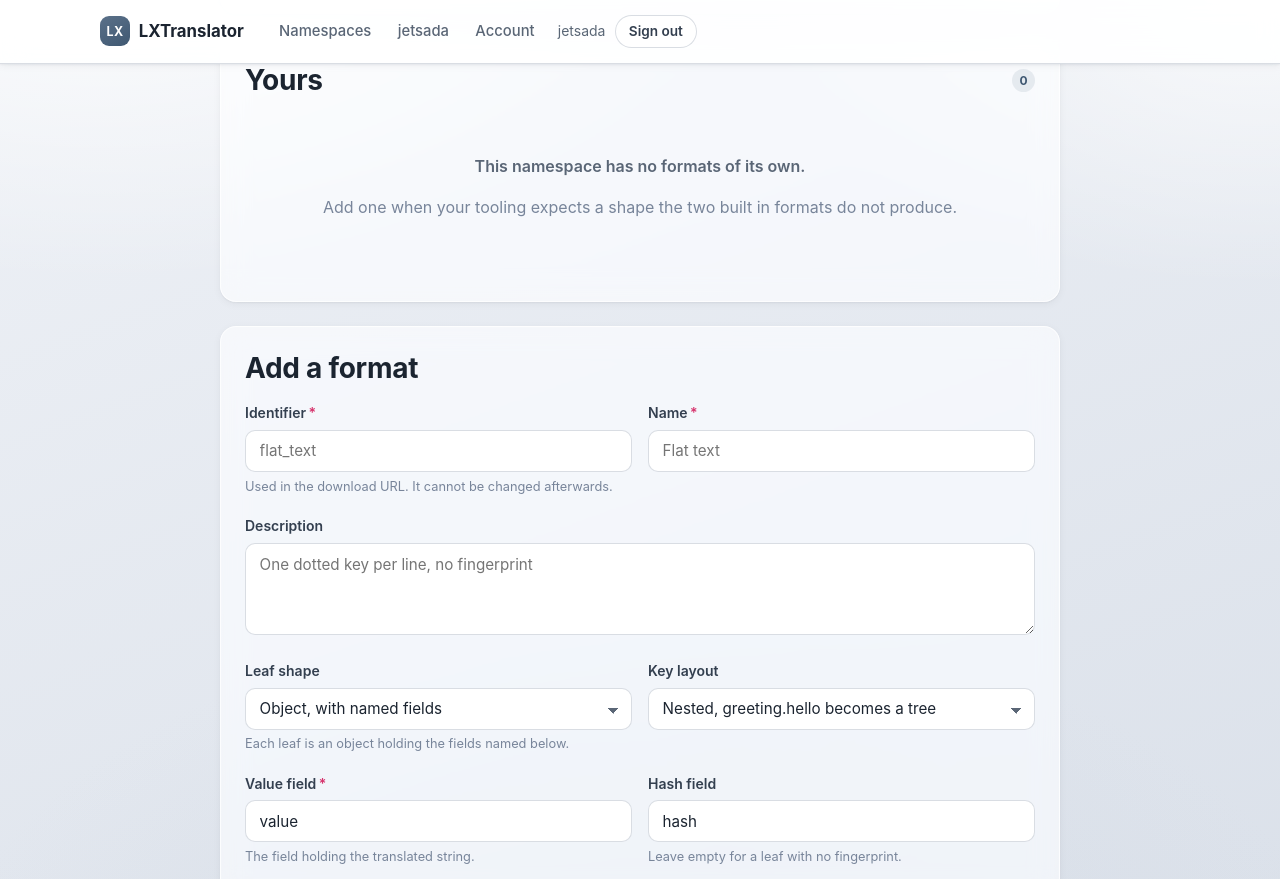
Test: export formats › managing them › refuses a field name that could reach the object prototype
This screenshot has width=1280, height=879.
(page scrolled)
In the field labelled "Identifier*": (438, 451) [245,430,632,472], type "polluted"
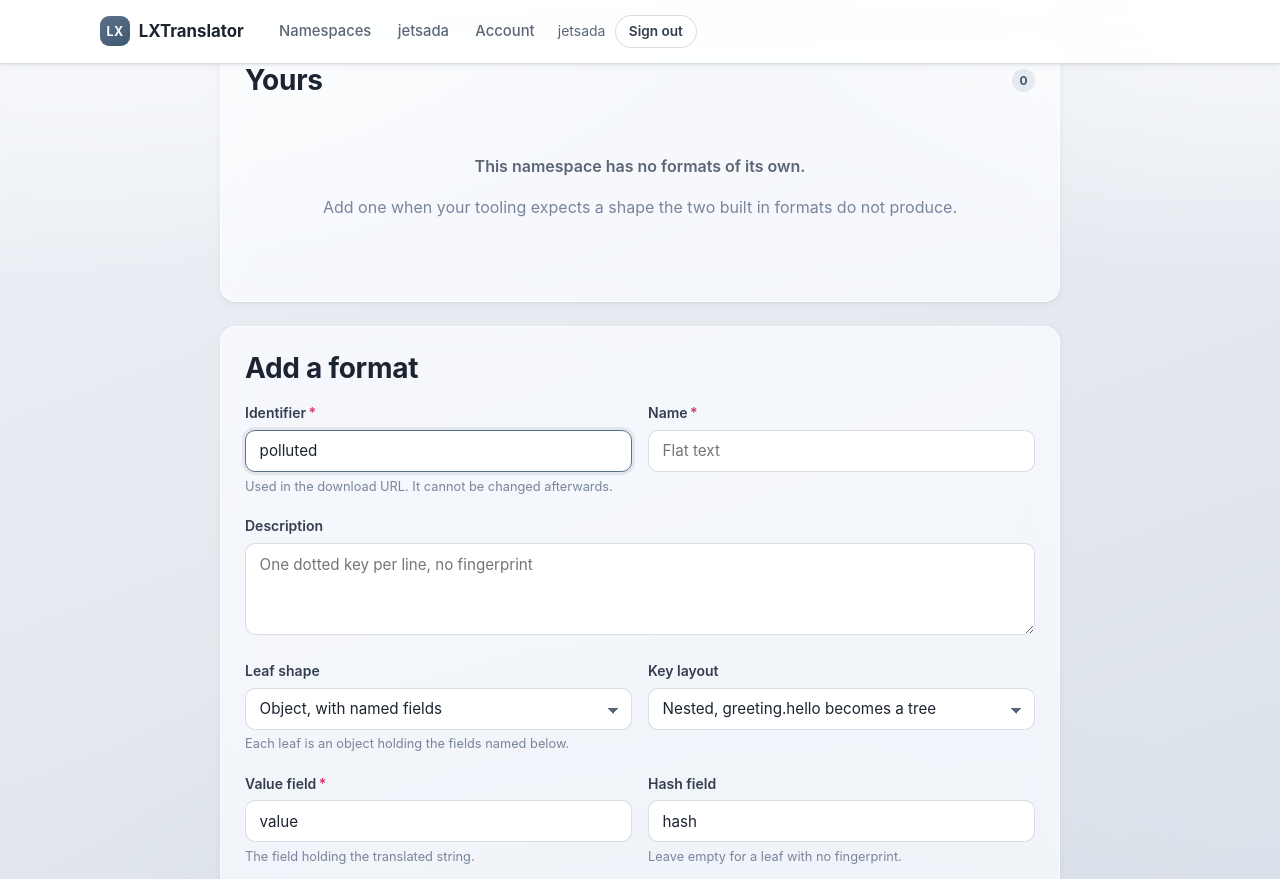
In the field labelled "Name*": (842, 451) [648,430,1035,472], type "Polluted"
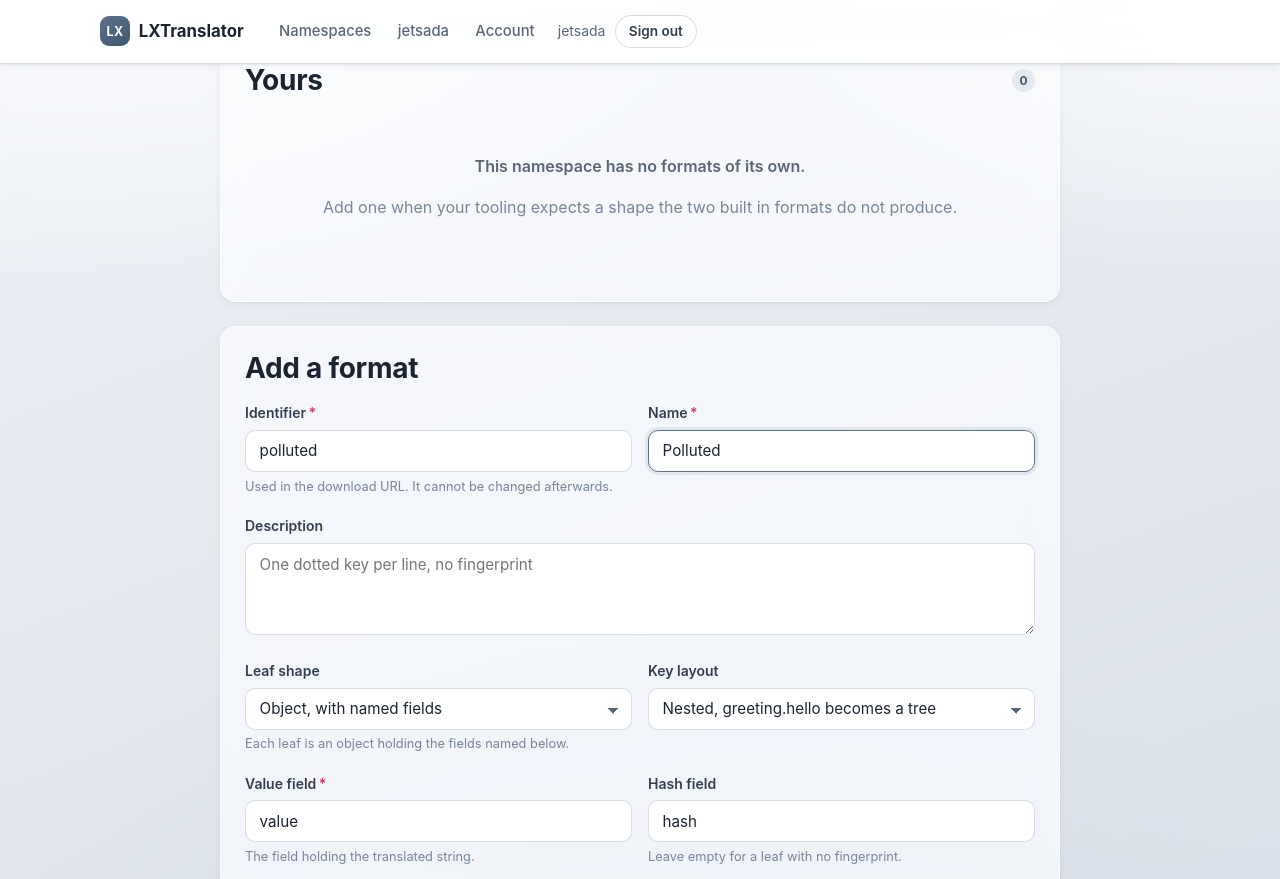
In the field labelled "Value field*": (438, 821) [245,800,632,842], type "__proto__"
(page scrolled)
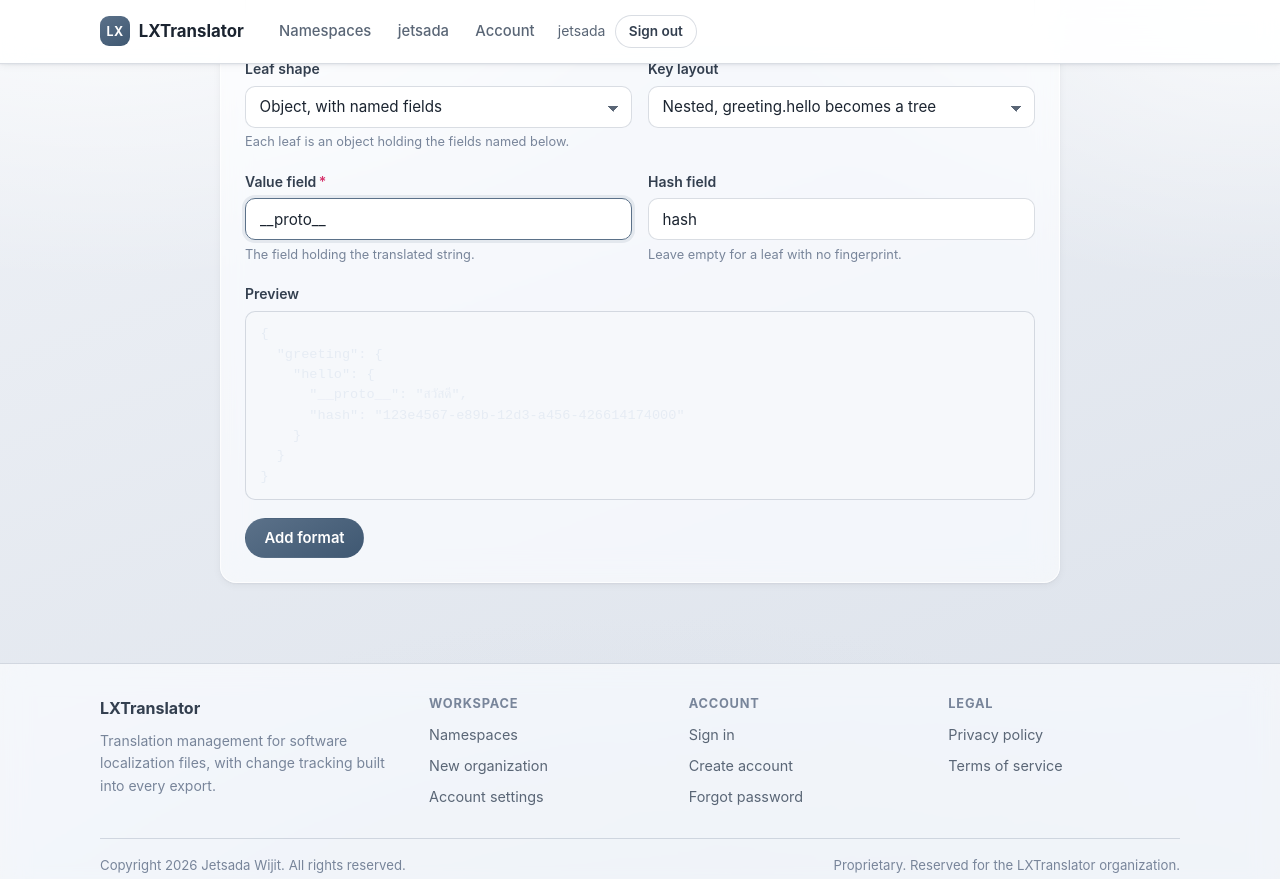
Click the button "Add format": (304, 538) [245,518,364,558]
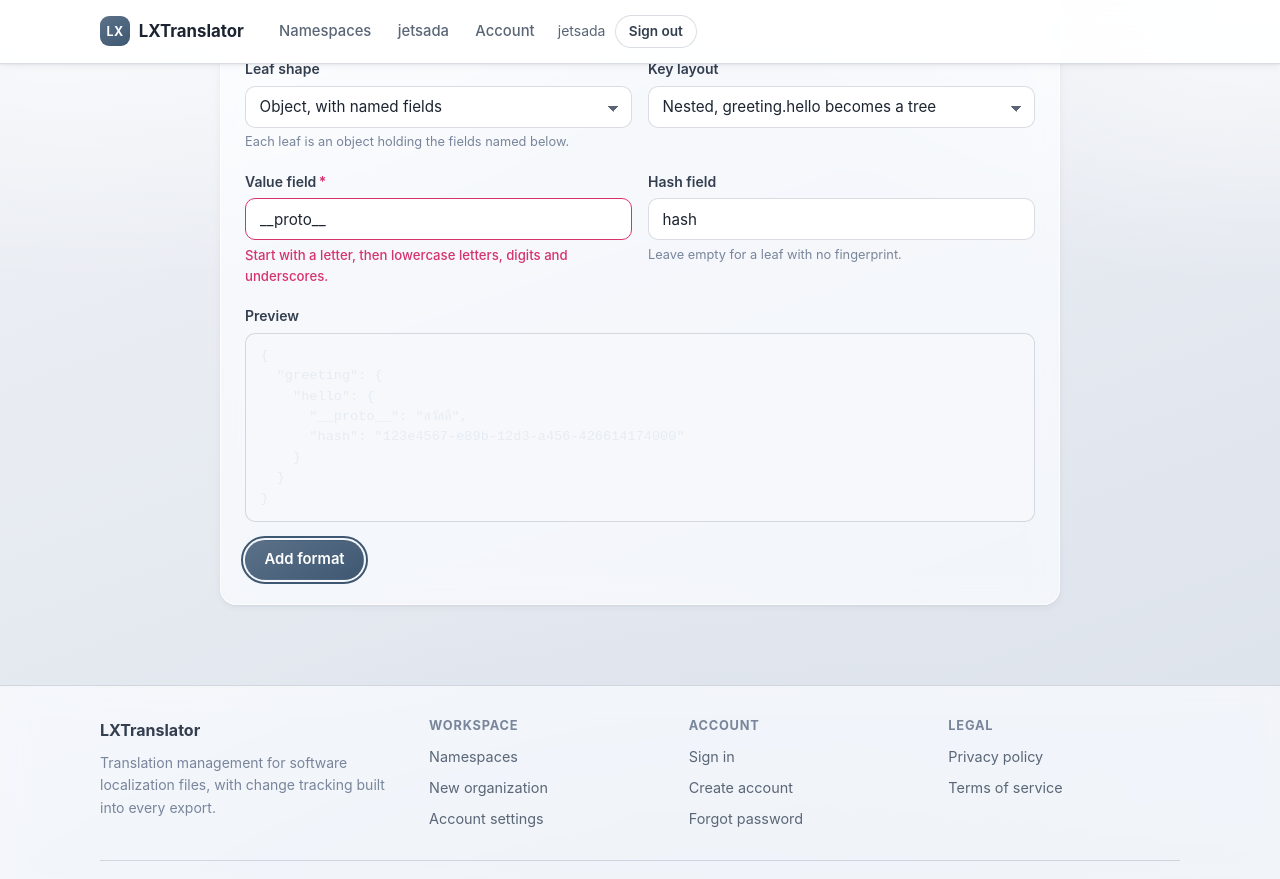
Check: the text "Start with a letter, then lowercase letters, digits and underscores." is shown, box [245,247,568,284]
